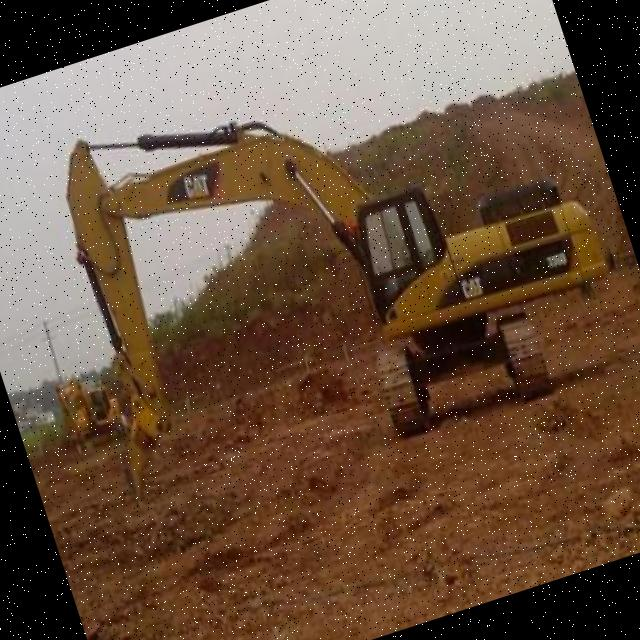Excavator: (11, 0, 640, 524)
